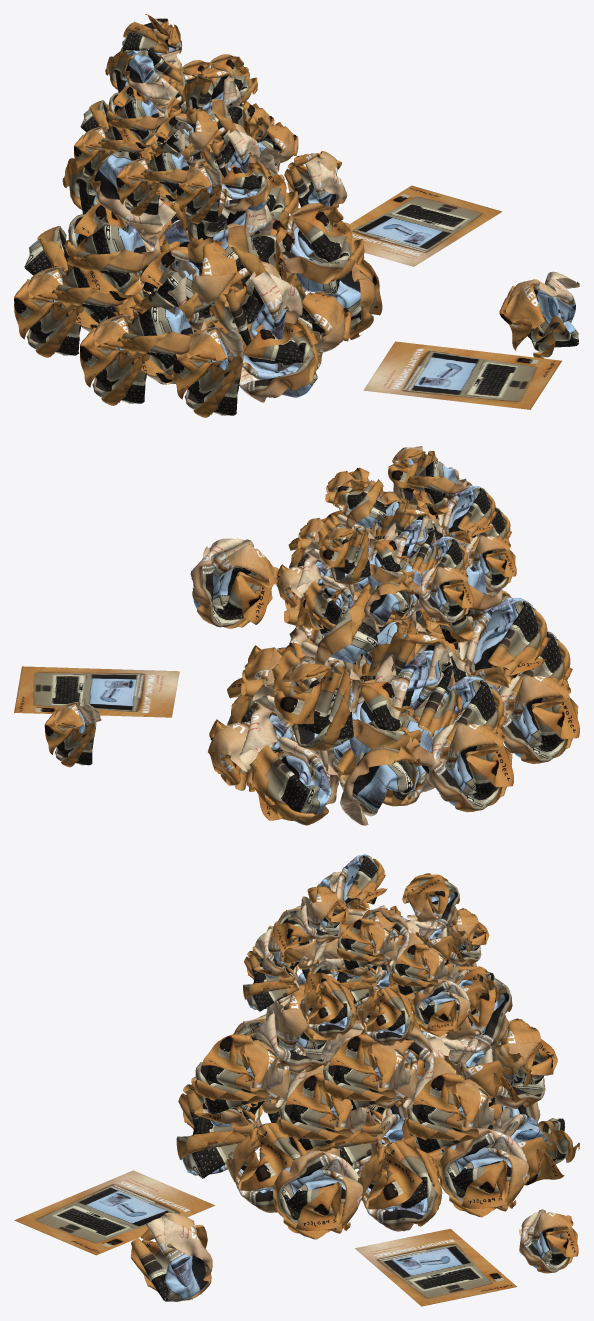
Rendered from meme_poster1.glb.
3 renders of one model, top to bottom at view 1: azimuth 30°, elevation 25°; view 2: azimuth 150°, elevation 25°; view 3: azimuth 270°, elevation 25°, orthographic. The views are drawn at different scales.
Visible parts, largest first — view 1: Plane.006, Plane.015, paper3.005, paper2, paper2.002, paper.018, paper2.005, paper.005, paper2.003, paper2.009, paper2.004, paper.006 (+31 smaller); view 2: Plane.015, paper.018, paper2.009, paper3.011, paper2.005, paper2.003, paper.010, paper.013, paper.015, paper3.009, paper3.008, paper.007 (+30 smaller); view 3: Plane.006, Plane.015, paper.002, paper.015, paper2.011, paper.018, paper3.005, paper3.007, paper3.006, paper3.004, paper2.001, paper.010 (+29 smaller).
Boxes of the visible parts, box(x1,y1,x2,y2) form: Plane.006: box(363, 341, 561, 409); Plane.015: box(349, 185, 502, 266); paper3.005: box(273, 203, 364, 294); paper2: box(238, 320, 319, 402); paper2.002: box(172, 326, 244, 417); paper.018: box(499, 271, 579, 358); paper2.005: box(68, 224, 160, 301); paper.005: box(209, 261, 302, 345); paper2.003: box(79, 314, 149, 405); paper2.009: box(14, 266, 84, 357); paper2.004: box(117, 306, 206, 382); paper.006: box(163, 238, 246, 329); Plane.015: box(14, 666, 179, 717); paper.018: box(190, 538, 278, 628); paper2.009: box(428, 721, 513, 812); paper3.011: box(249, 737, 339, 825); paper2.005: box(457, 597, 549, 687); paper2.003: box(498, 672, 579, 763); paper.010: box(274, 660, 353, 750); paper.013: box(336, 742, 422, 825); paper.015: box(208, 703, 295, 791); paper3.009: box(375, 650, 461, 737); paper3.008: box(349, 679, 421, 756); paper.007: box(296, 588, 378, 666); Plane.006: box(14, 1170, 215, 1255); Plane.015: box(355, 1228, 516, 1306); paper.002: box(273, 1150, 362, 1239); paper.015: box(438, 1128, 528, 1217); paper2.011: box(357, 1141, 442, 1231); paper.018: box(130, 1212, 212, 1301); paper3.005: box(194, 1034, 282, 1114); paper3.007: box(406, 1073, 494, 1153); paper3.006: box(322, 1034, 410, 1110); paper3.004: box(278, 1073, 366, 1151); paper2.001: box(226, 1123, 310, 1212); paper.010: box(475, 1018, 557, 1109).
Bounding box in the file's own units: 1.09 × 0.6707 × 1.14.
Materials: 58 (58 with a texture image).
